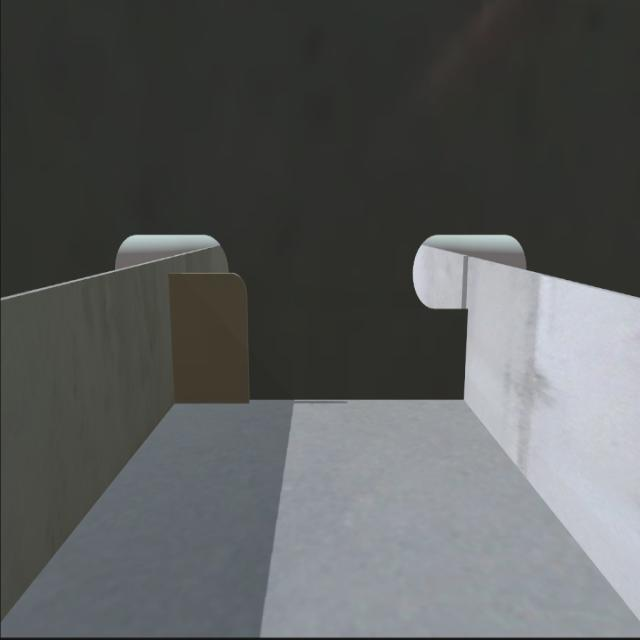fillet_yong_jeop_jang: (168, 388, 473, 406)
longi_yong_jeop_jang: (162, 266, 184, 414), (454, 305, 474, 400)
plate_CP05: (166, 268, 251, 406)
